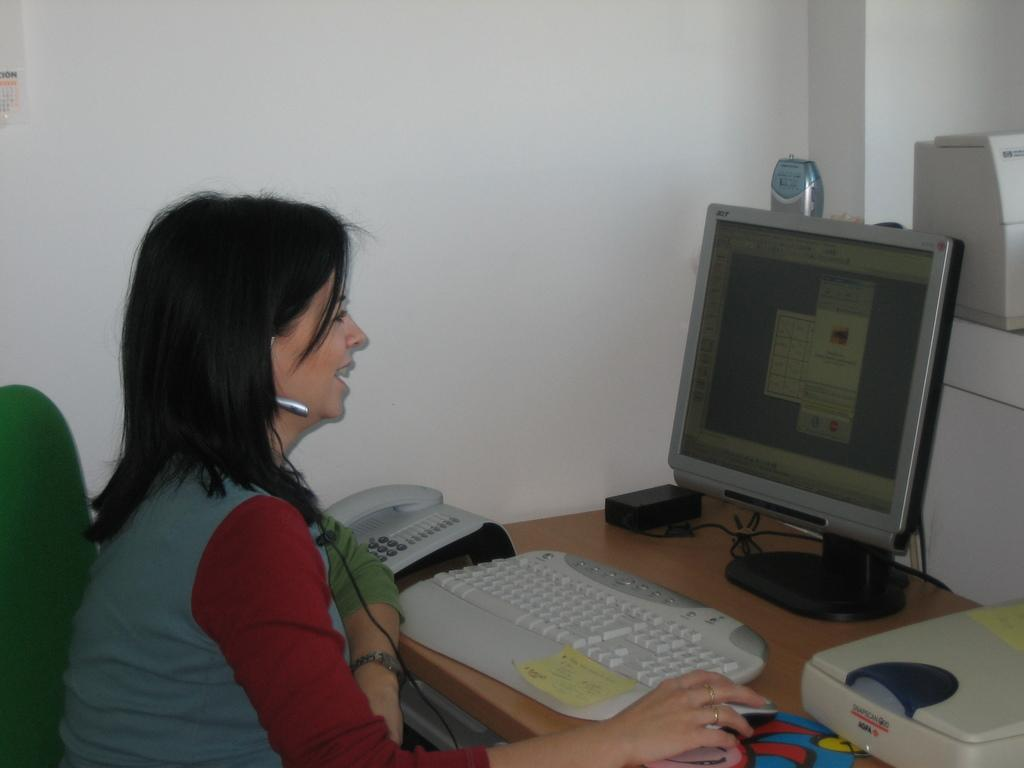Computer-keyboard: (397, 549, 769, 722)
